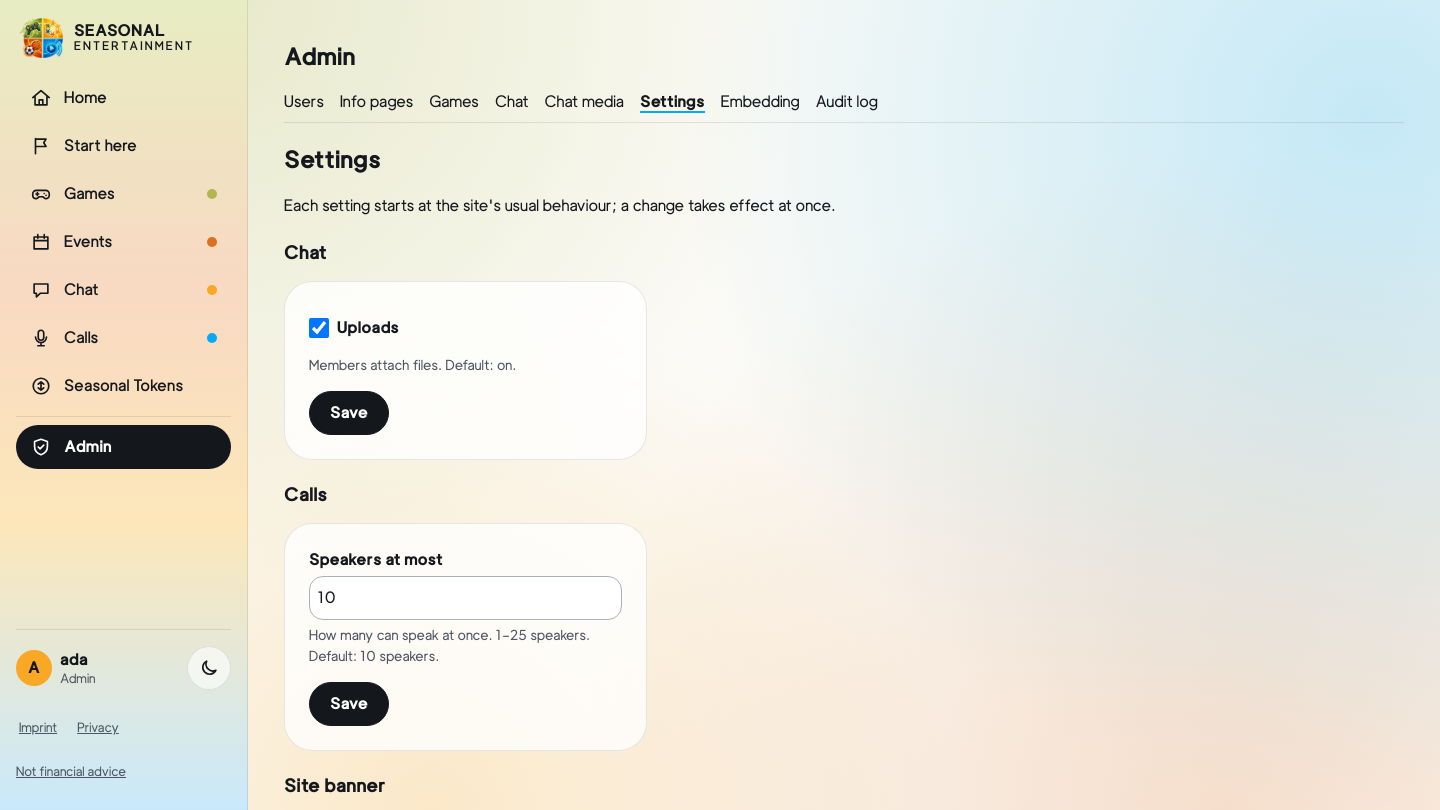
Test case: shows the server refusal on the setting
Check: the form "Speakers at most" is shown, box [284,523,647,751]
Click the button "Save" below "Speakers at most".
click(349, 704)  # box [309,682,389,726]
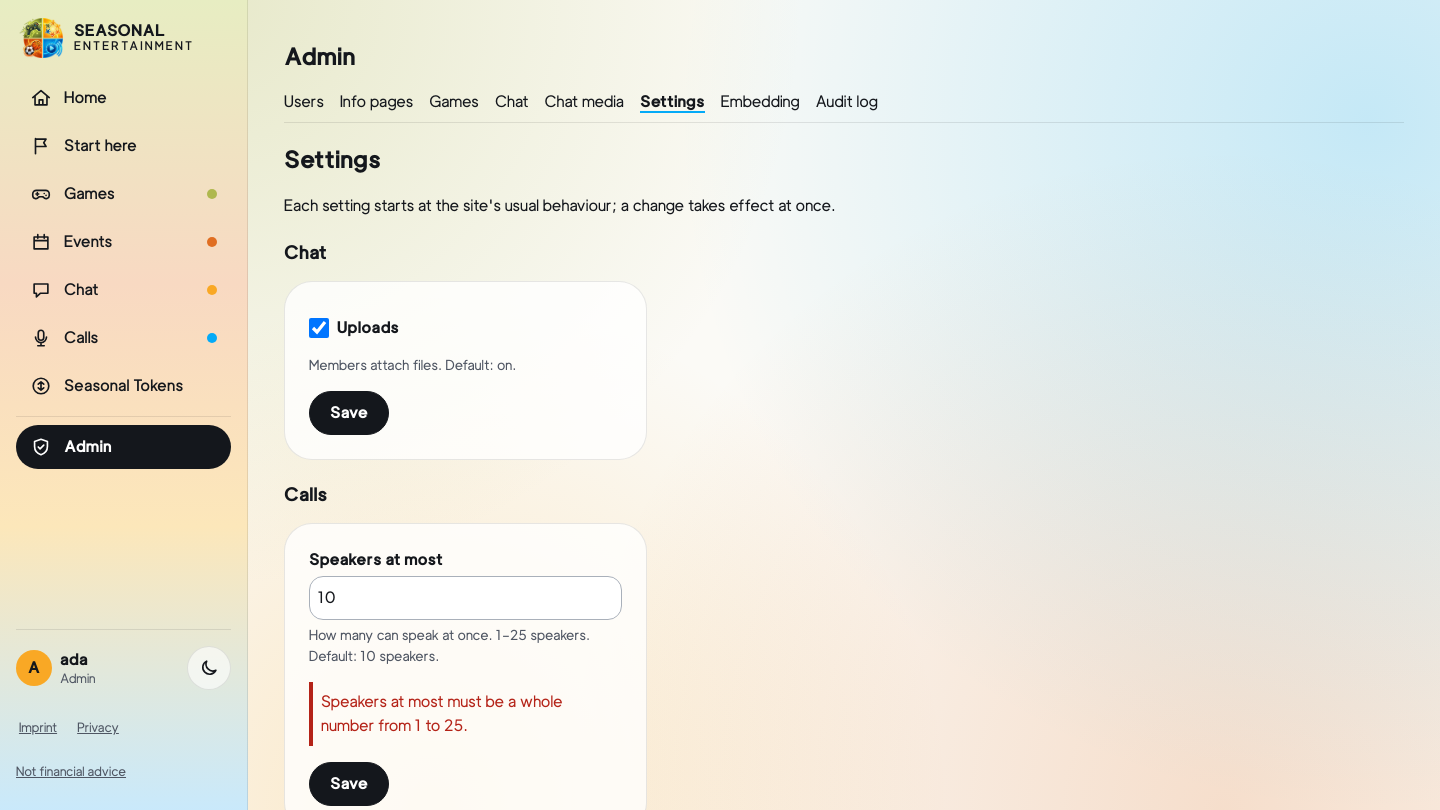
Check: the message shows "from 1 to 25", box [321,692,563,735]
